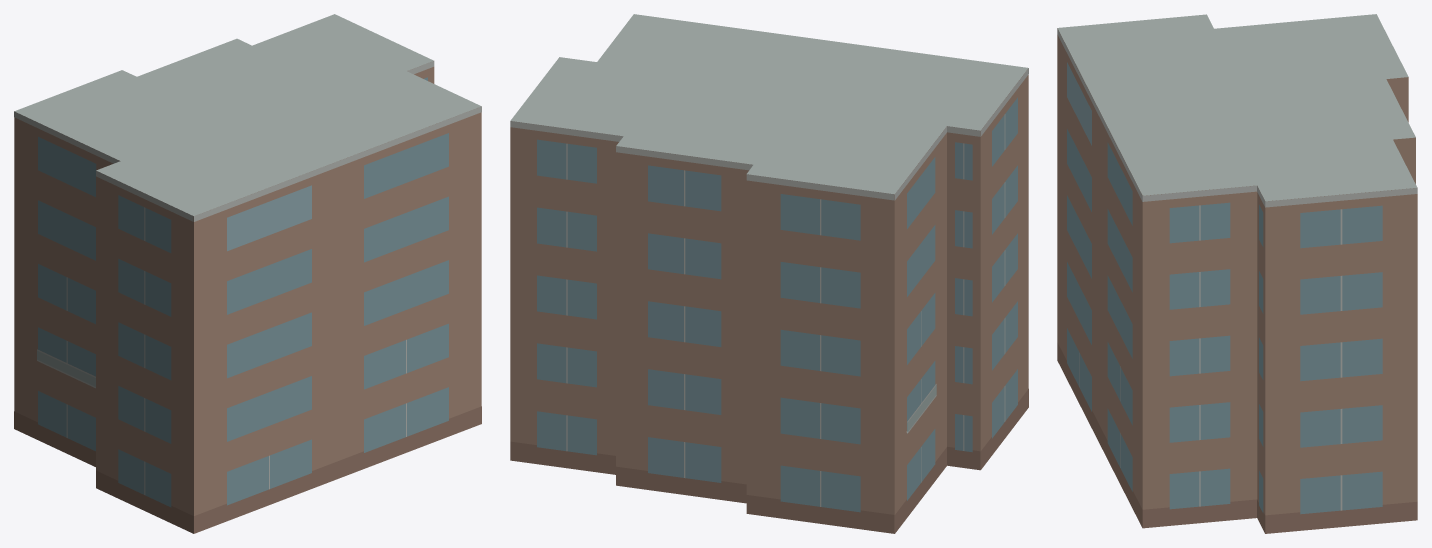
Rendered from survey-upis-32780345.glb.
The picture shows the model from 3 angles, left to right: view 1: azimuth 30°, elevation 25°; view 2: azimuth 150°, elevation 25°; view 3: azimuth 270°, elevation 25°; orthographic projection. The views are drawn at different scales.
Parts seen in each view (by area): view 1: survey-upis-32780345.tmp; view 2: survey-upis-32780345.tmp; view 3: survey-upis-32780345.tmp.
Boxes of the visible parts, x1,y1,x2,y2 form: survey-upis-32780345.tmp: (14, 14, 481, 533); survey-upis-32780345.tmp: (510, 14, 1028, 533); survey-upis-32780345.tmp: (1057, 14, 1417, 533).
Size of the model in its own units: 15.96 by 13.2 by 12.97.
